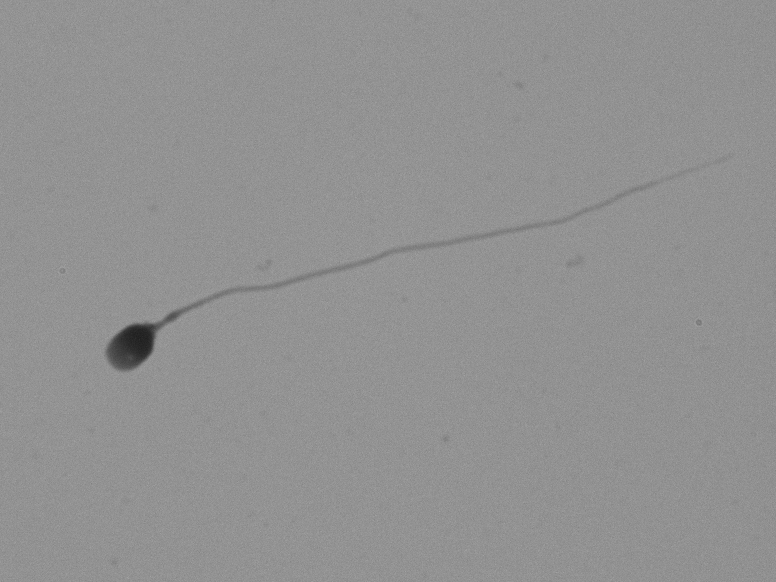Normal: (71, 145, 727, 396)
